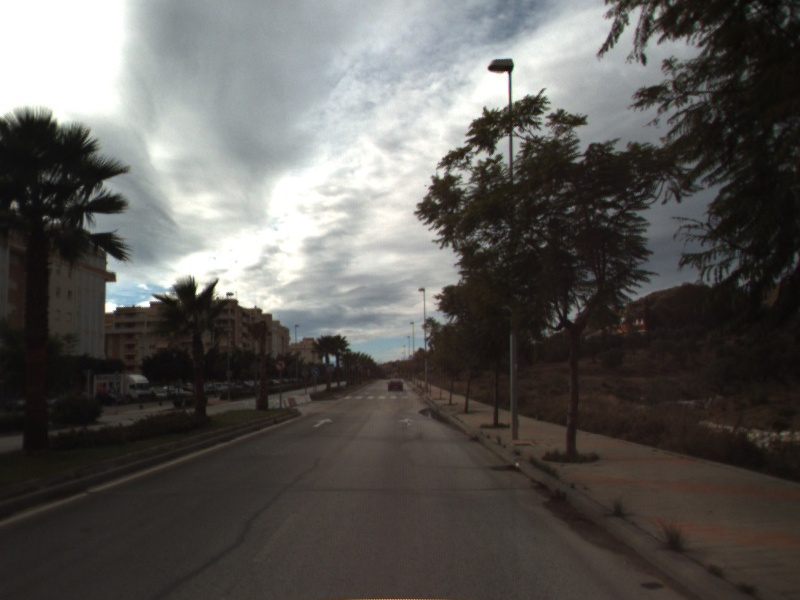STRAIGHT: (311, 416, 334, 429)
